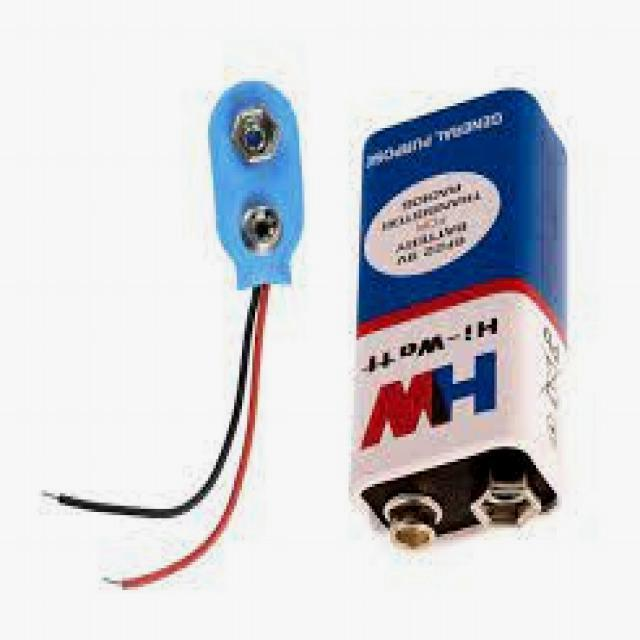battery: (347, 90, 569, 555)
